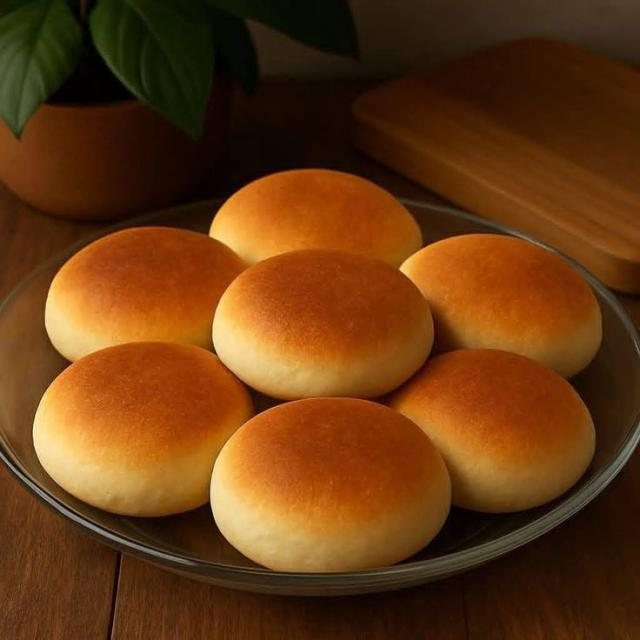bread: (212, 399, 450, 572), (34, 343, 252, 516), (390, 349, 594, 512), (214, 250, 433, 399), (401, 234, 601, 377), (46, 227, 245, 360), (210, 169, 421, 266)
